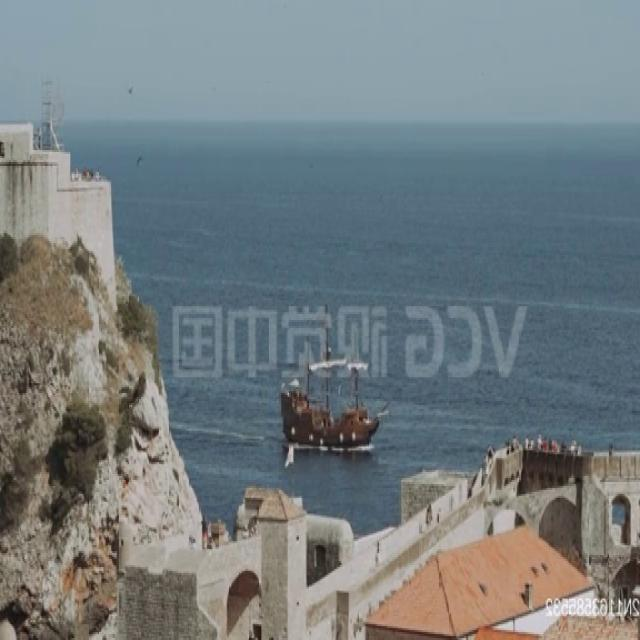sailboat: (285, 307, 389, 454)
